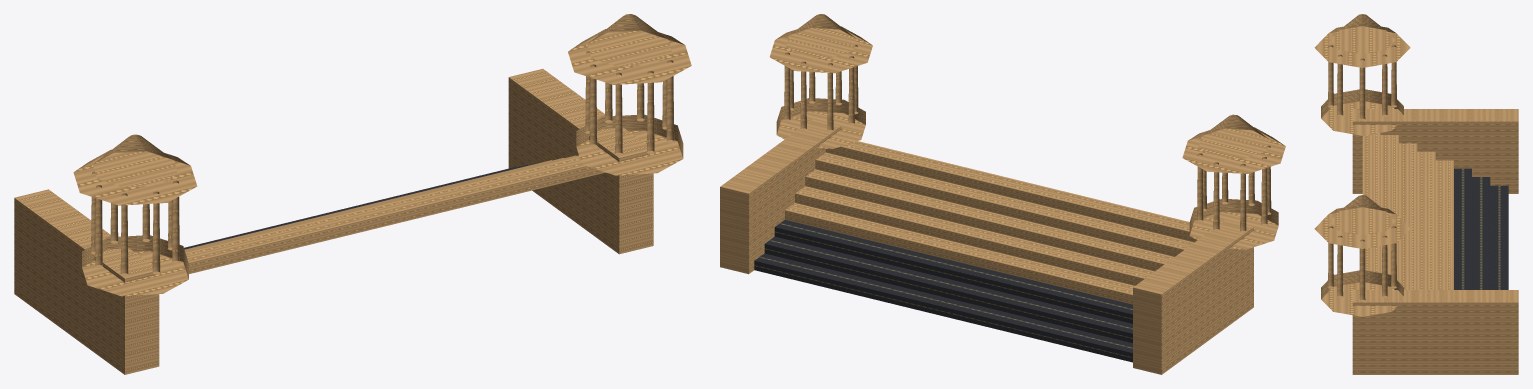
The model's file is water_ghat_stairs.glb.
The picture shows the model from 3 angles, left to right: view 1: azimuth 30°, elevation 25°; view 2: azimuth 150°, elevation 25°; view 3: azimuth 270°, elevation 25°; orthographic projection. The views are drawn at different scales.
Visible parts, largest first — view 1: Node_WaterGhatStairs; view 2: Node_WaterGhatStairs; view 3: Node_WaterGhatStairs.
Boxes of the visible parts, x1,y1,x2,y2 form: Node_WaterGhatStairs: (14,14,691,374); Node_WaterGhatStairs: (720,14,1285,374); Node_WaterGhatStairs: (1314,14,1518,374).
Size of the model in its own units: 15.8 by 5.7 by 6.15.
Materials: 2 (2 with a texture image).
